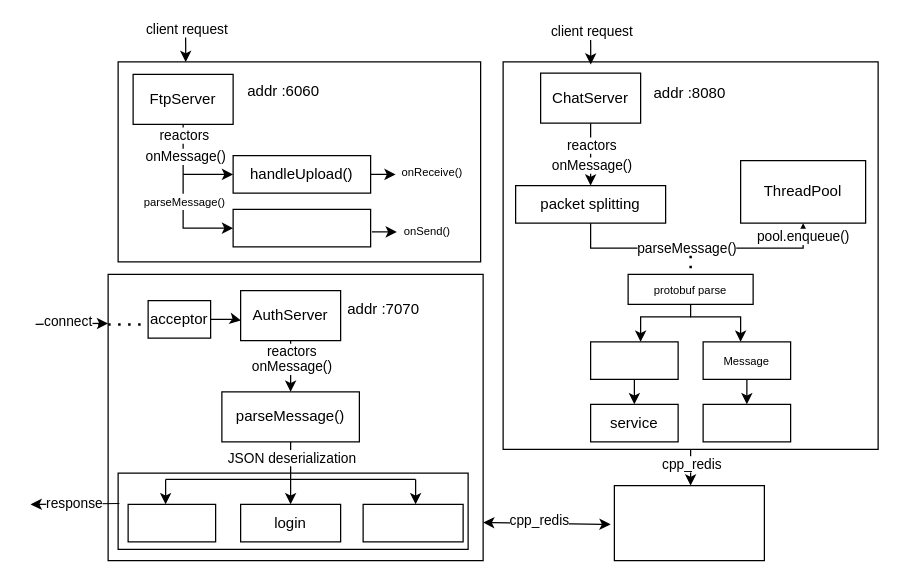
Some shapes in this 900 by 583 pixel diagram are drawn without their labels. The box of each missing label's shape, as (x1, y1, x2, y2) in pixels:
handleDownload(): (232, 208, 371, 247)
redis: (613, 484, 764, 561)
register: (127, 503, 216, 542)
sendMsgToUser: (702, 403, 791, 442)
ServiceHandler: (589, 341, 678, 379)
token: (362, 503, 463, 542)
